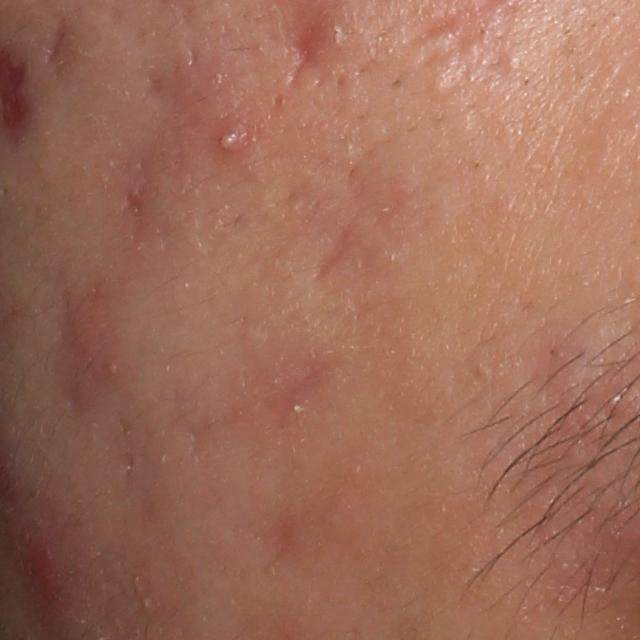atrophic_scar: (311, 219, 360, 289), (287, 21, 325, 92), (115, 168, 160, 227), (403, 14, 466, 48), (41, 19, 72, 67)
comedo: (424, 76, 451, 100), (501, 54, 523, 76)
pustule: (216, 126, 250, 152)
